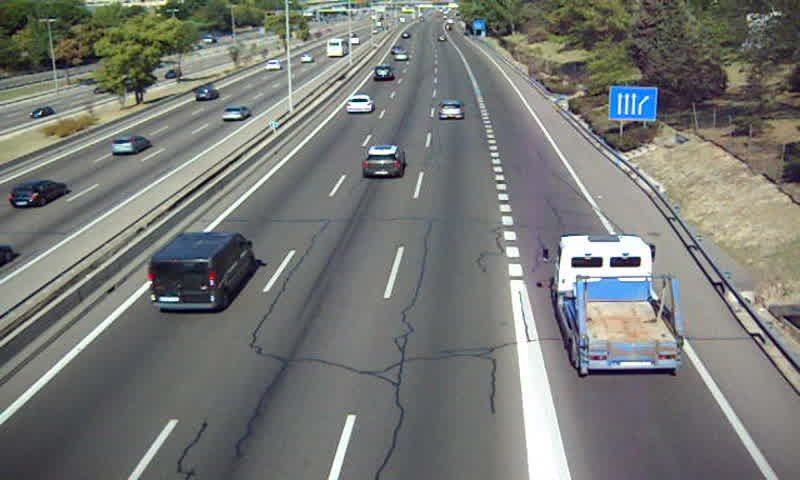car: (363, 144, 406, 177), (344, 95, 374, 114), (438, 100, 465, 121), (372, 66, 394, 83), (393, 51, 411, 63)
small-truck: (555, 236, 684, 374)
van: (150, 233, 251, 309)
